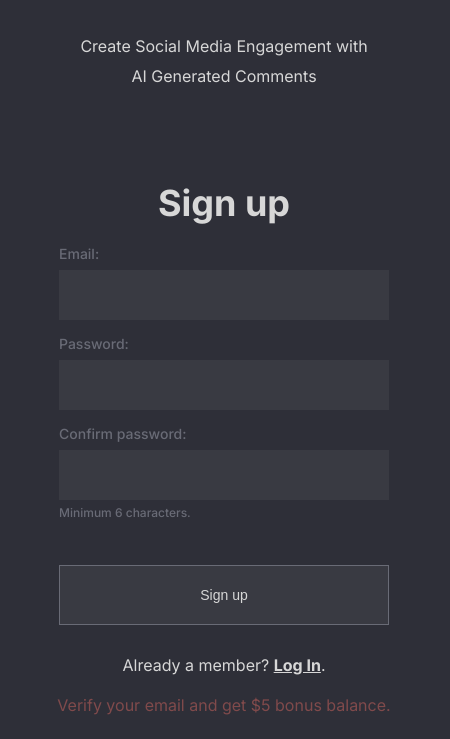
Scenario: User sign up to the app › lets the user go to the login page
(page scrolled)
Expected: the element showing "Already a member? Log In ." is shown, x1=122 y1=655 x2=326 y2=675
Click the link "Log In" at (298, 665), box x1=274 y1=650 x2=321 y2=680
(page scrolled)
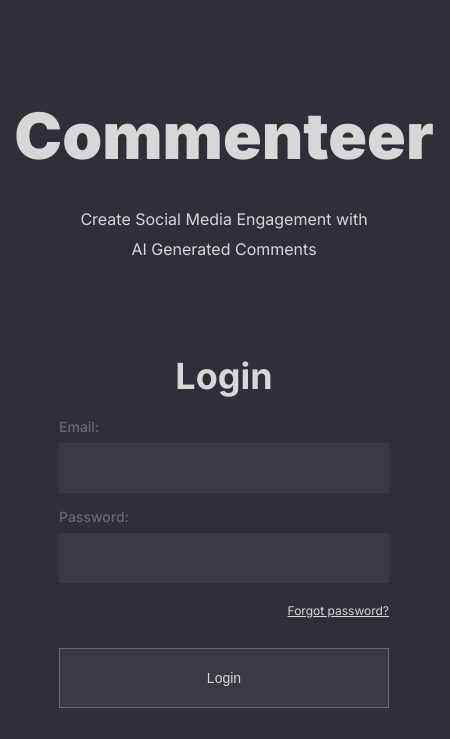
Now the heading "Login" is shown, box x1=175 y1=354 x2=273 y2=398
